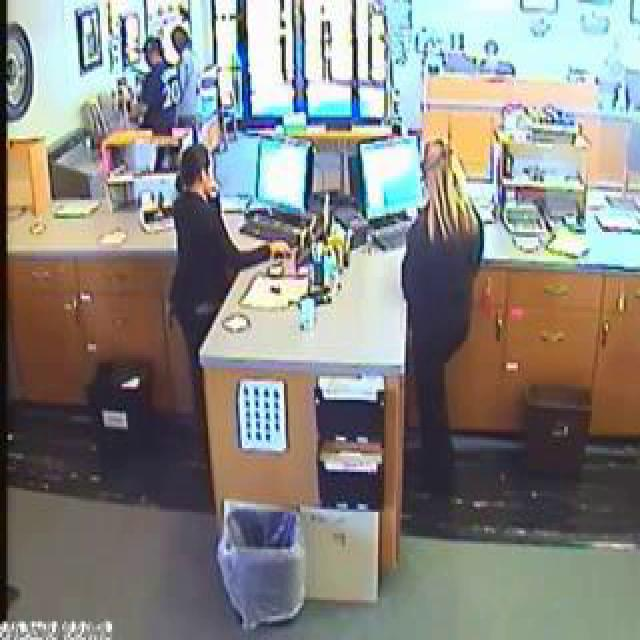robbery: (181, 71, 488, 334)
